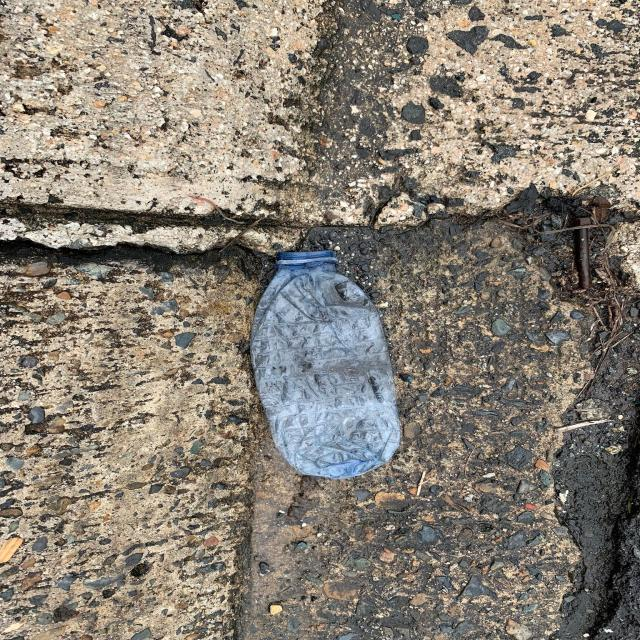litter: (250, 249, 400, 479)
